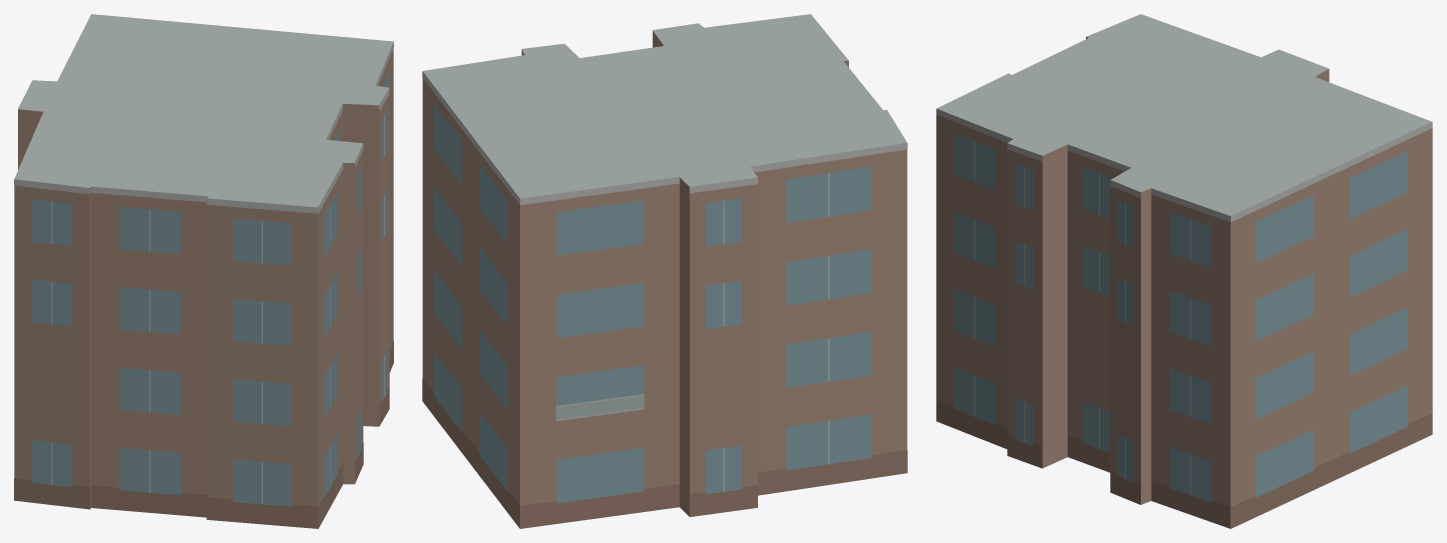
Rendered from survey-upis-32467276.glb.
3 views of the same model, side by side, from view 1: azimuth 30°, elevation 25°; view 2: azimuth 150°, elevation 25°; view 3: azimuth 270°, elevation 25° (orthographic). The views are drawn at different scales.
Visible parts, largest first — view 1: survey-upis-32467276.tmp; view 2: survey-upis-32467276.tmp; view 3: survey-upis-32467276.tmp.
Boxes of the visible parts, <box> form: survey-upis-32467276.tmp: <box>14,14,393,528</box>; survey-upis-32467276.tmp: <box>422,14,907,528</box>; survey-upis-32467276.tmp: <box>936,14,1432,528</box>.
Size of the model in its own units: 17.21 by 12.4 by 17.84.
